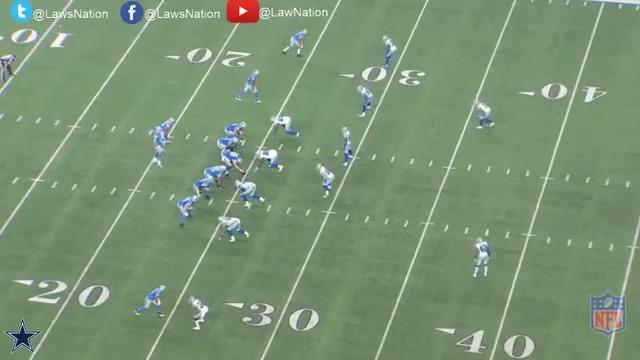player: (133, 284, 167, 320), (236, 68, 265, 106), (234, 179, 267, 210), (216, 213, 250, 242), (471, 236, 492, 281), (148, 126, 167, 170), (175, 194, 199, 228), (189, 295, 211, 332), (280, 29, 308, 58), (254, 147, 285, 173), (219, 149, 246, 178), (269, 114, 301, 138), (474, 99, 495, 133), (203, 164, 230, 190), (316, 163, 335, 199), (380, 34, 397, 73), (192, 177, 217, 203), (356, 83, 374, 119), (160, 116, 178, 150), (215, 133, 239, 158), (341, 127, 355, 169), (223, 122, 248, 145)
ref: (0, 52, 18, 82)
